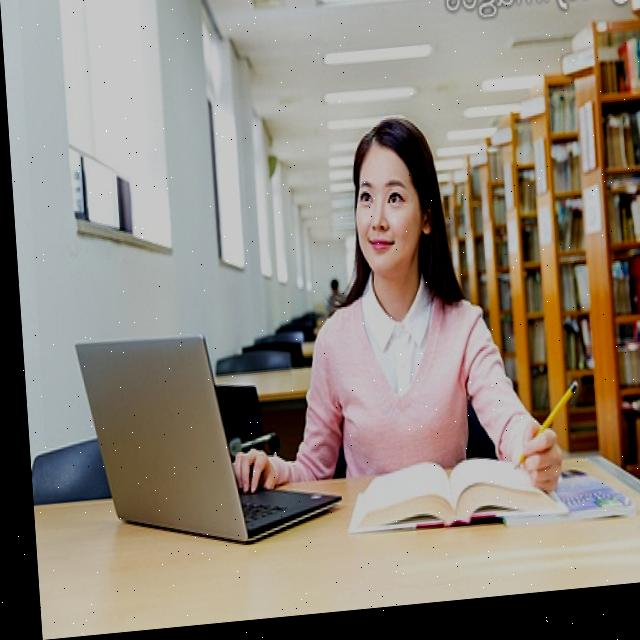studying-person: (198, 104, 590, 552)
